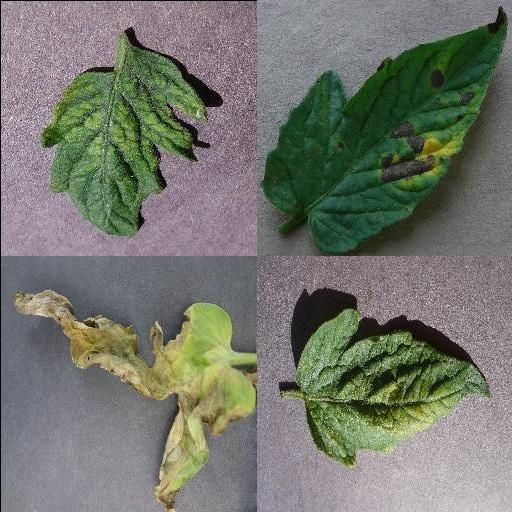Early Blight: (260, 8, 508, 254)
Late Blight: (12, 288, 256, 511)
Mosaic Virus: (39, 45, 207, 237)
Spider Mites: (293, 309, 491, 468)
